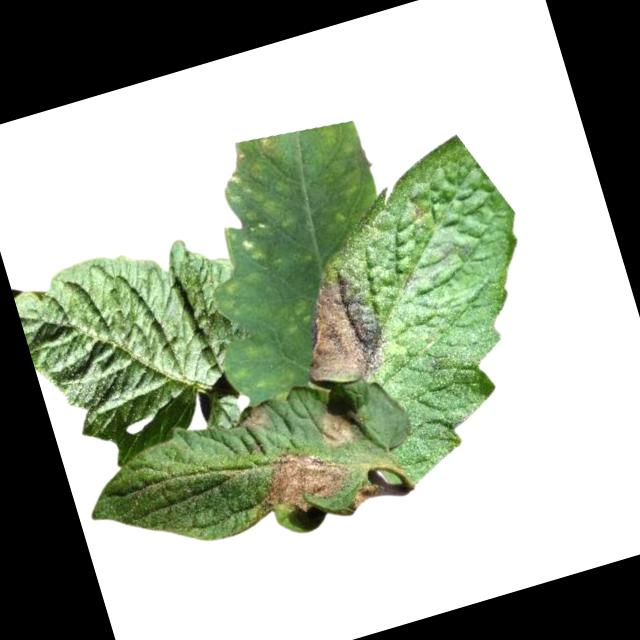Late_blight: (281, 260, 397, 397), (248, 433, 362, 523), (313, 394, 372, 451), (350, 478, 386, 508), (236, 405, 268, 432)
healthy: (9, 218, 283, 482)
